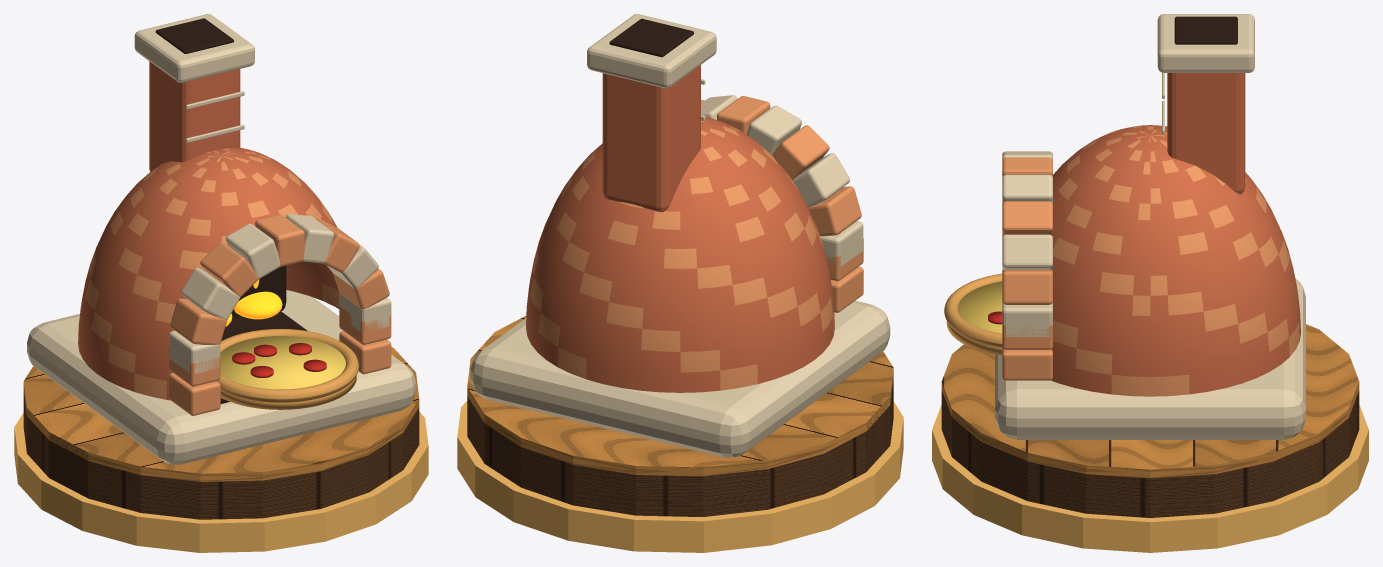
The model's file is PizzaOven.glb.
The picture shows the model from 3 angles, left to right: view 1: azimuth 30°, elevation 25°; view 2: azimuth 150°, elevation 25°; view 3: azimuth 270°, elevation 25°; orthographic projection. The views are drawn at different scales.
Visible parts, largest first — view 1: PizzaOven Head, pedestal, rim; view 2: PizzaOven Head, pedestal, rim; view 3: PizzaOven Head, pedestal, rim.
Boxes of the visible parts, x1,y1,x2,y2 form: PizzaOven Head: [27, 14, 415, 464]; pedestal: [23, 347, 419, 519]; rim: [14, 412, 428, 552]; PizzaOven Head: [470, 14, 890, 457]; pedestal: [467, 316, 893, 516]; rim: [457, 401, 903, 552]; PizzaOven Head: [944, 14, 1305, 439]; pedestal: [941, 324, 1359, 517]; rim: [932, 405, 1368, 552].
Size of the model in its own units: 0.9 by 0.9815 by 0.9.
Materials: 11 (2 with a texture image).
